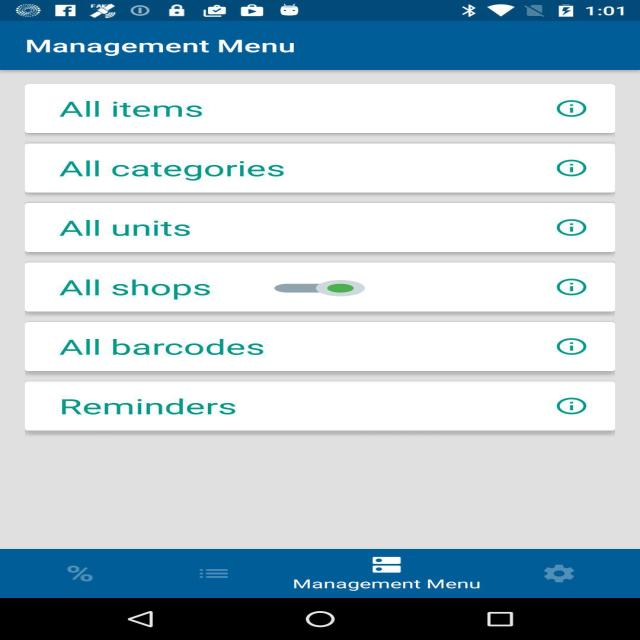social proof: (274, 273, 365, 303)
